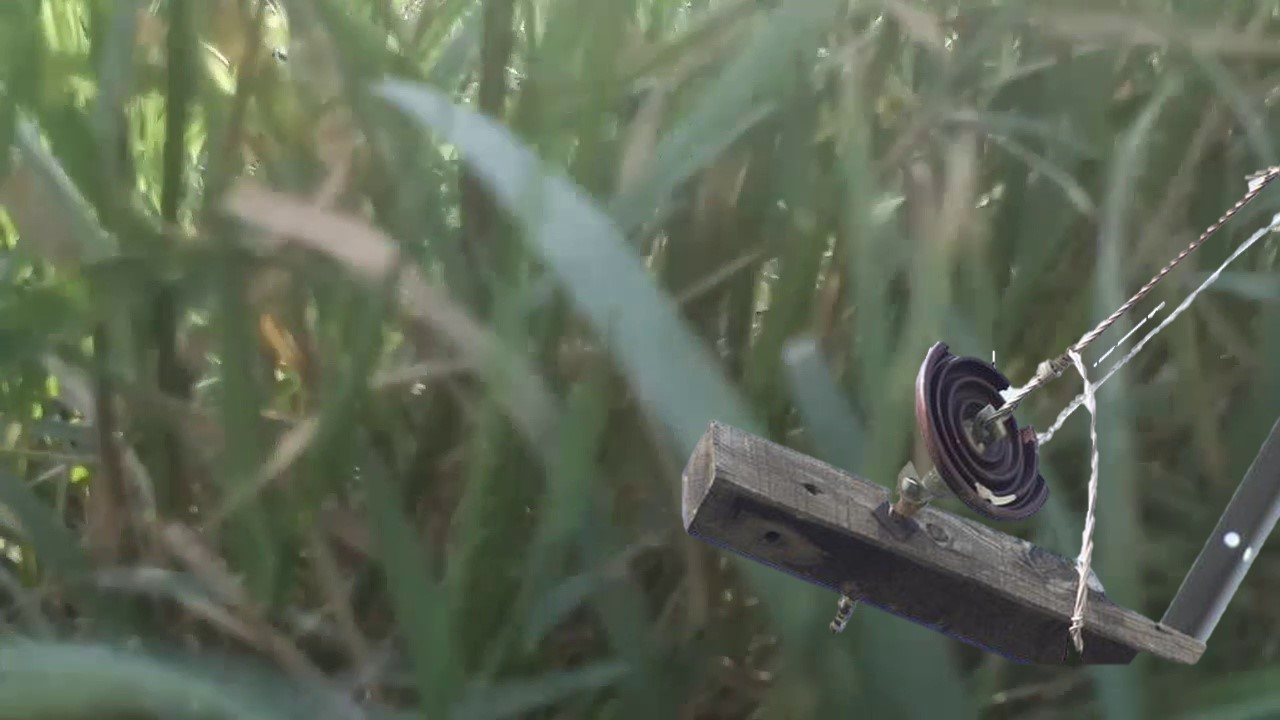defect_disc: (910, 324, 1065, 532)
